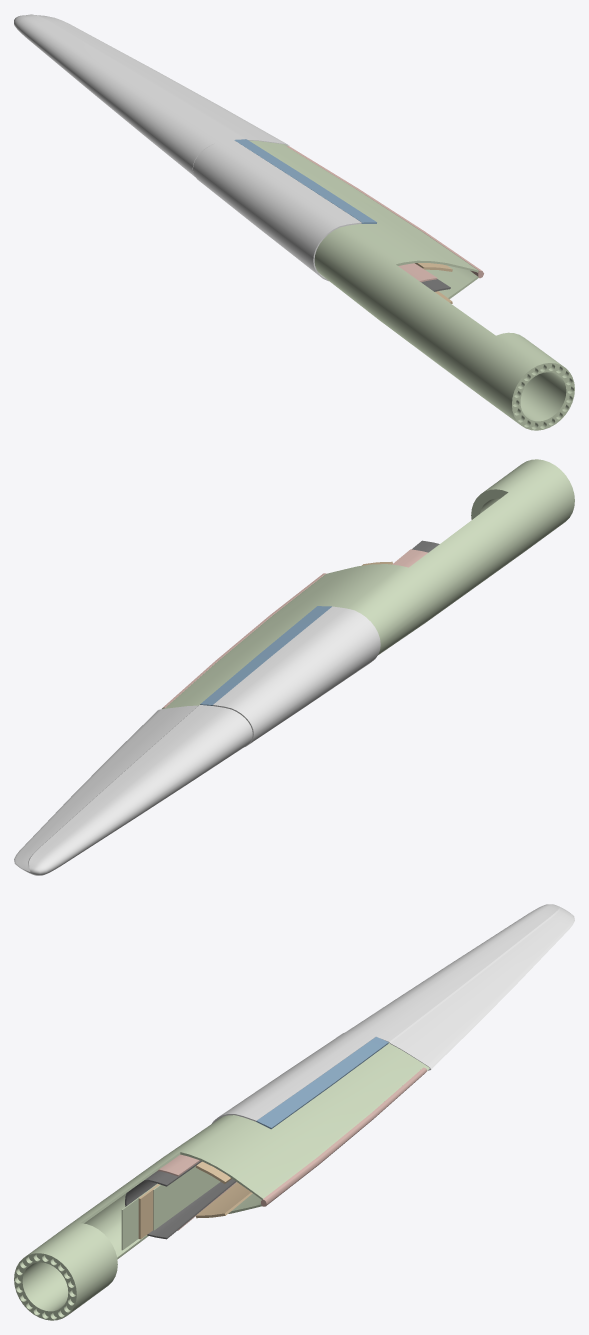
The picture shows the model from 3 angles, top to bottom: view 1: azimuth 30°, elevation 25°; view 2: azimuth 150°, elevation 25°; view 3: azimuth 330°, elevation 25°; orthographic projection.
Parts seen in each view (by area): view 1: polySurface43; view 2: polySurface43; view 3: polySurface43.
Boxes of the visible parts, x1=… form: polySurface43: x1=14, y1=14, x2=574, y2=430; polySurface43: x1=14, y1=459, x2=574, y2=875; polySurface43: x1=14, y1=904, x2=574, y2=1320.
Size of the model in its own units: 1.76 by 0.966 by 13.78.
